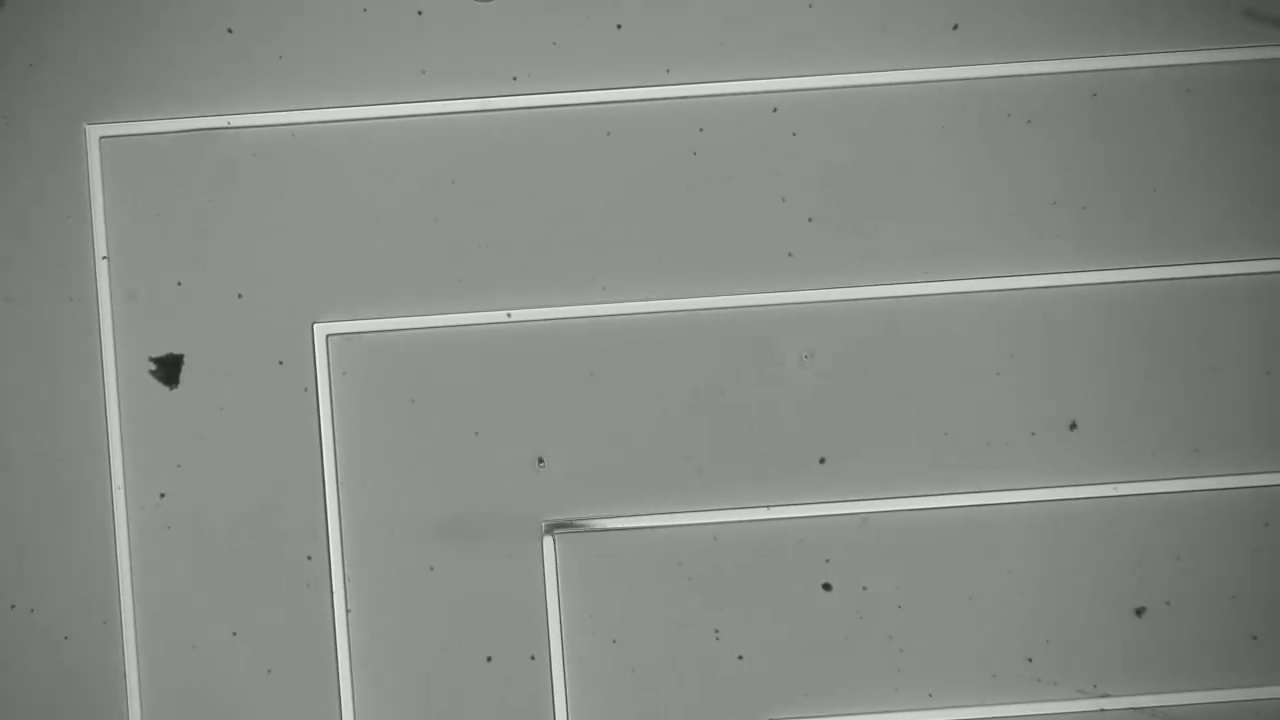gray_line: (530, 501, 616, 544)
